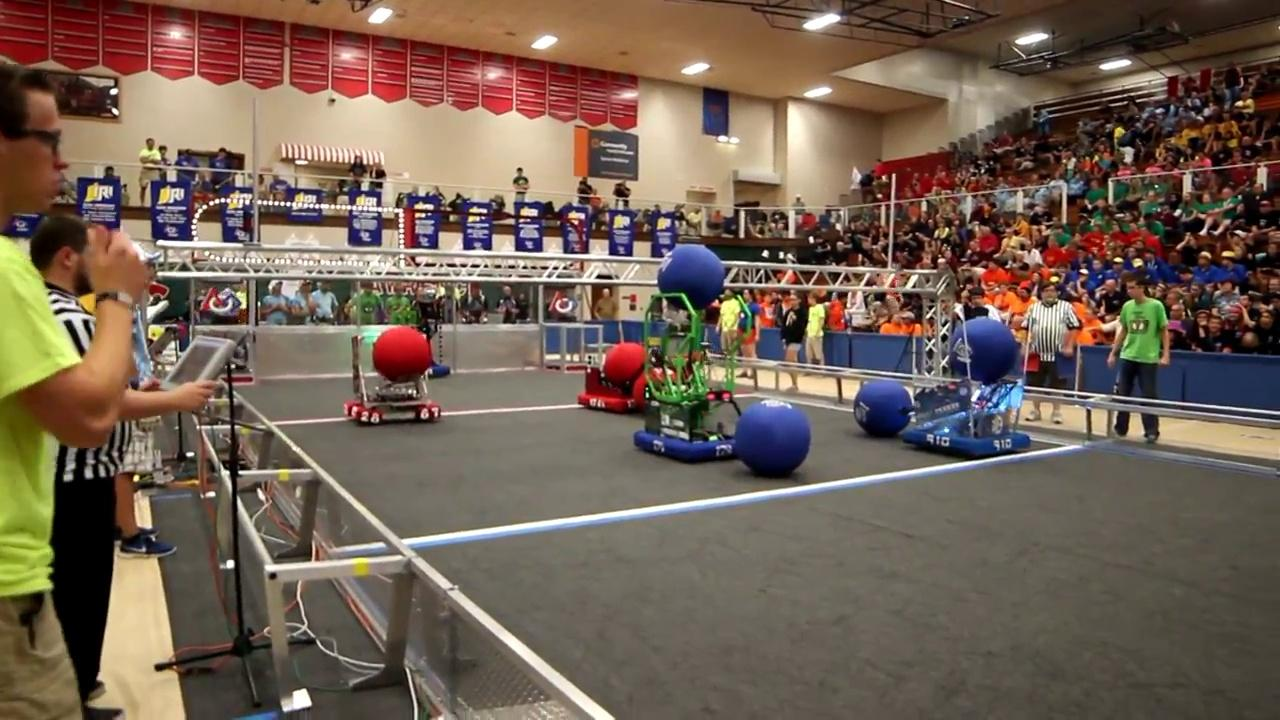robot: (624, 285, 756, 470), (903, 312, 1035, 460), (339, 325, 449, 432), (579, 334, 667, 417)
